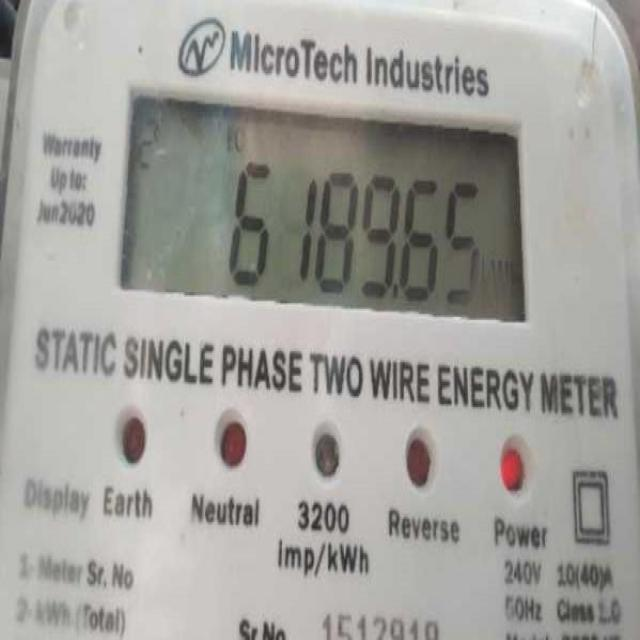1: (296, 164, 318, 295)
5: (446, 166, 482, 308)
6: (234, 142, 268, 298), (403, 165, 440, 308)
8: (318, 164, 360, 299)
9: (364, 168, 397, 302)
Digital meter: (129, 97, 522, 317)
point: (390, 282, 408, 306)
